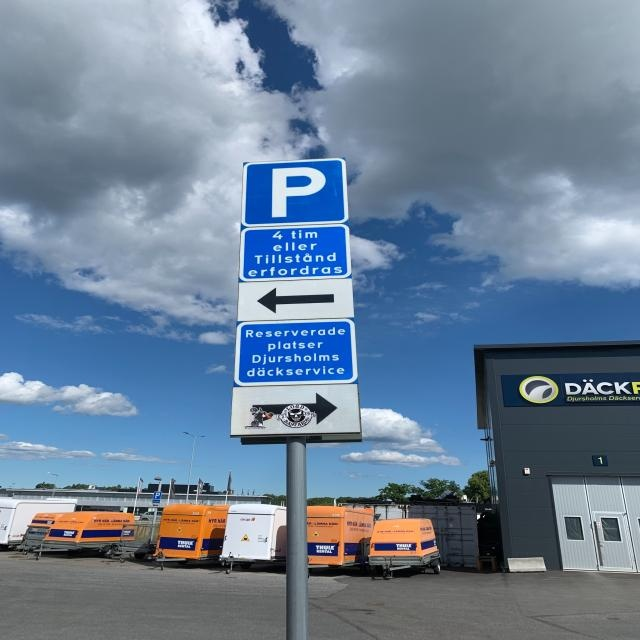lastplats: (241, 157, 347, 227)
